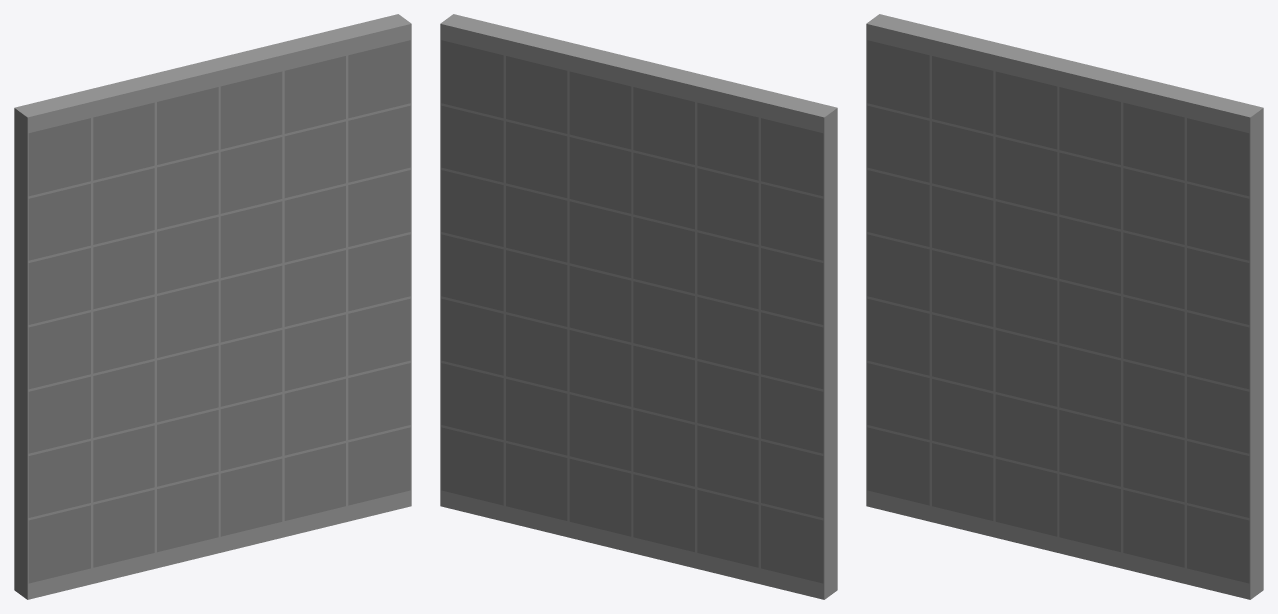
File: Wall1_C7_16.fbx
3 views of the same model, side by side, from view 1: azimuth 30°, elevation 25°; view 2: azimuth 150°, elevation 25°; view 3: azimuth 330°, elevation 25° (orthographic).
Visible parts, largest first — view 1: Wall1_C7_16; view 2: Wall1_C7_16; view 3: Wall1_C7_16.
Boxes of the visible parts, x1,y1,x2,y2 form: Wall1_C7_16: (14,14,411,599); Wall1_C7_16: (440,14,837,599); Wall1_C7_16: (866,14,1263,599).
Size of the model in its own units: 250 by 300 by 15.
